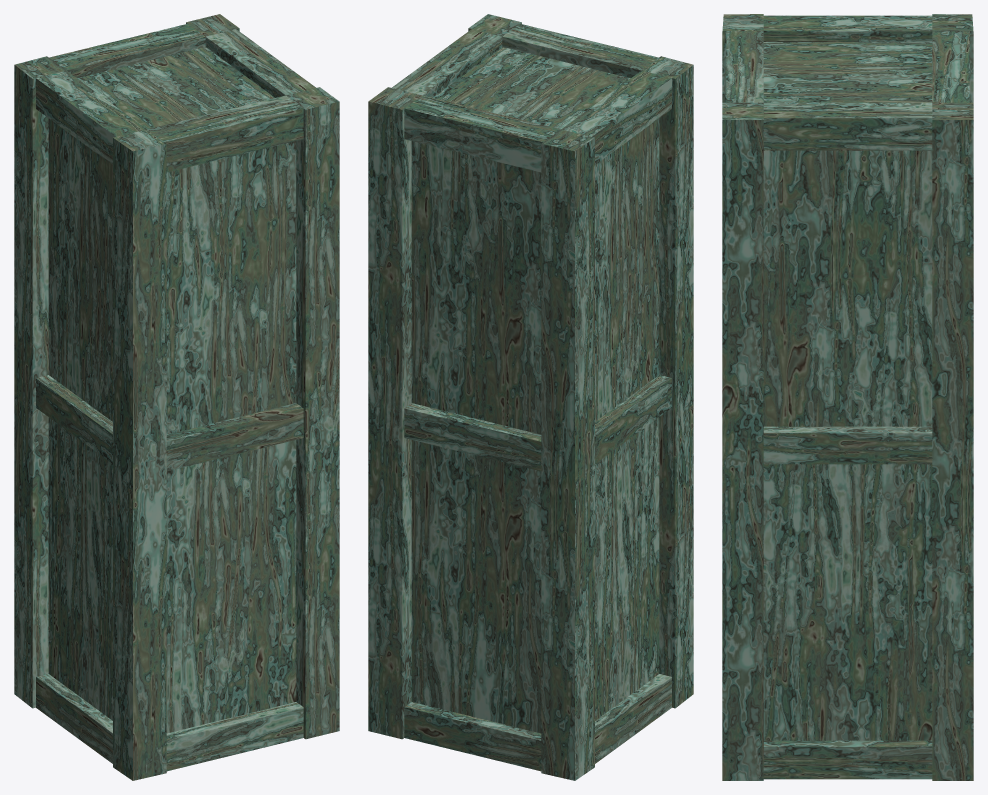
The model's file is Crate_1x3.FBX.
3 views of the same model, side by side, from view 1: azimuth 30°, elevation 25°; view 2: azimuth 150°, elevation 25°; view 3: azimuth 270°, elevation 25° (orthographic). The views are drawn at different scales.
Visible parts, largest first — view 1: Box024; view 2: Box024; view 3: Box024.
Boxes of the visible parts, x1=… form: Box024: x1=14, y1=14, x2=339, y2=780; Box024: x1=368, y1=14, x2=693, y2=780; Box024: x1=722, y1=14, x2=973, y2=780.
Bounding box in the file's own units: 103 × 300 × 103.
